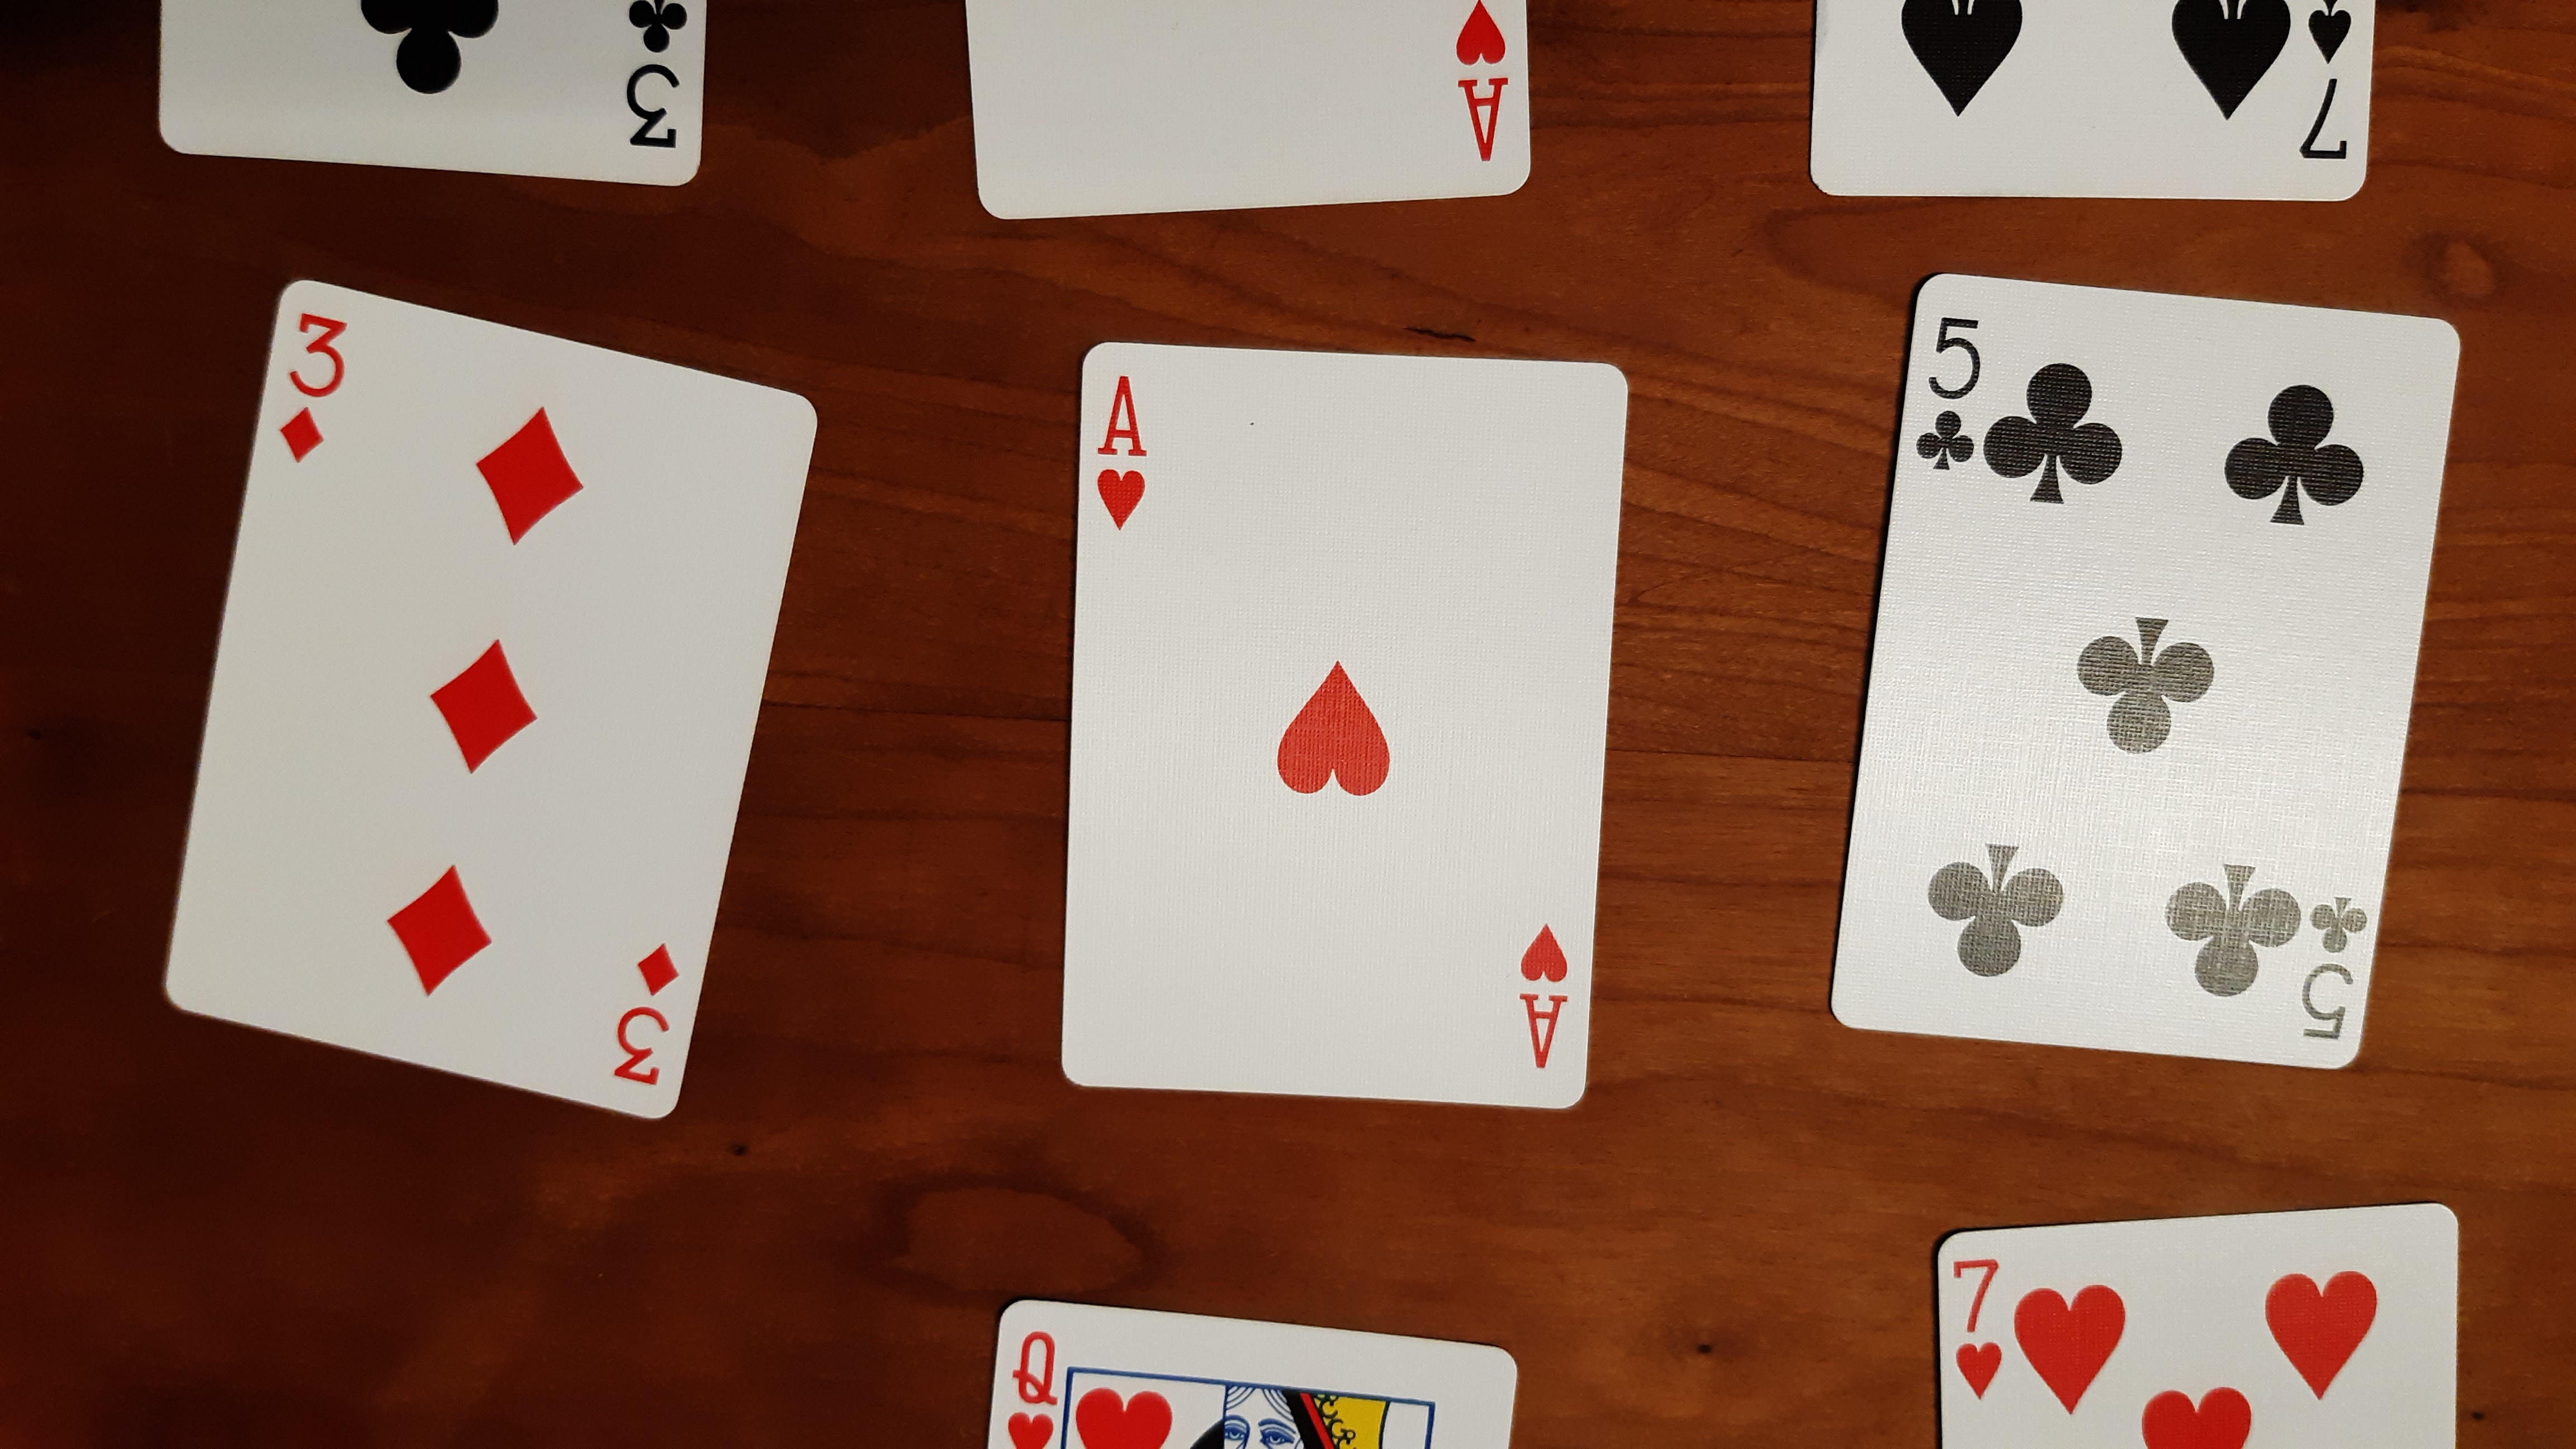Black_Club_3: (616, 4, 692, 152)
Black_Club_5: (2289, 883, 2380, 1051), (1916, 308, 1980, 476)
Black_Spade_7: (2300, 4, 2358, 165)
Red_Diamond_3: (264, 306, 357, 465), (609, 934, 683, 1099)
Red_Heart_7: (1944, 1253, 2013, 1399)
Red_Heart_Ace: (1083, 364, 1164, 547), (1454, 2, 1518, 165), (1509, 918, 1576, 1072)
Red_Heart_Queen: (1005, 1327, 1062, 1449)
